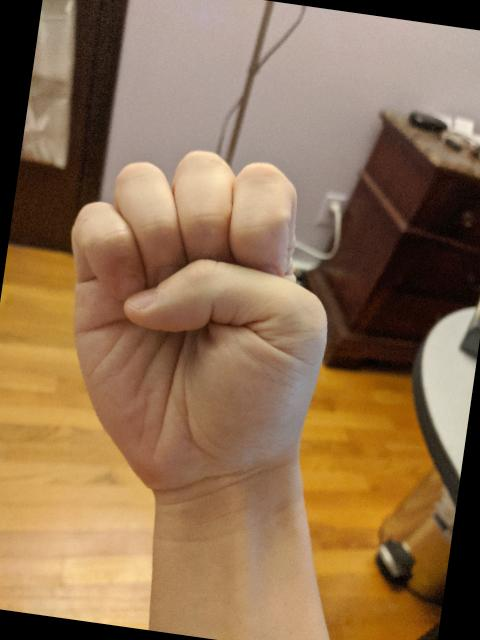E: (33, 131, 355, 518)
